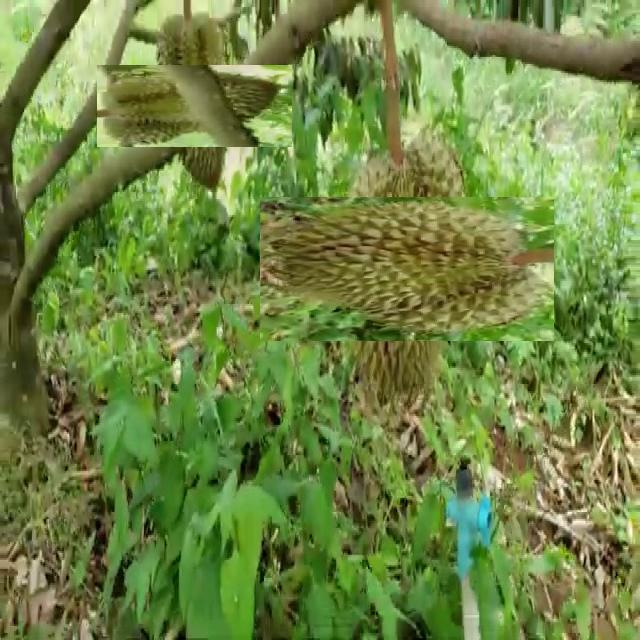durian: (297, 160, 517, 379), (125, 36, 264, 175)
